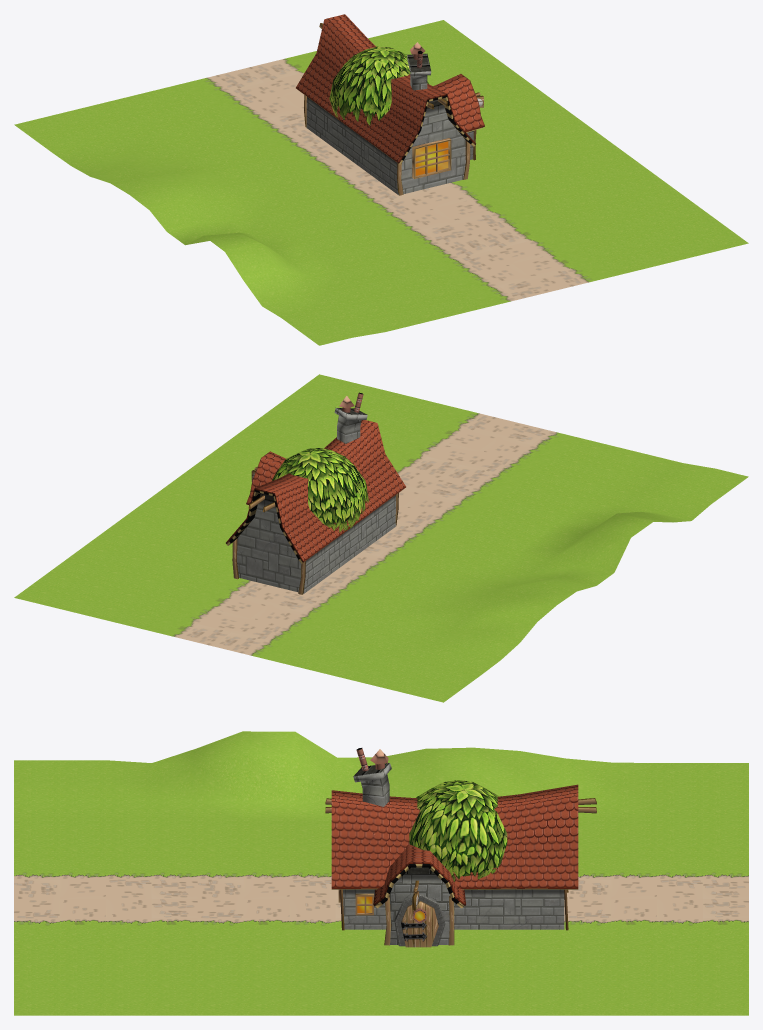
Rendered from houseENV01_parts.fbx.
The picture shows the model from 3 angles, top to bottom: view 1: azimuth 30°, elevation 25°; view 2: azimuth 150°, elevation 25°; view 3: azimuth 270°, elevation 25°; orthographic projection. The views are drawn at different scales.
Visible parts, largest first — view 1: Env_ground_mesh, Env_house1_mesh, Env_tree2_mesh; view 2: Env_ground_mesh, Env_house1_mesh, Env_tree2_mesh; view 3: Env_ground_mesh, Env_house1_mesh, Env_tree2_mesh.
Part boxes in pixels (bbox=[...]): Env_ground_mesh: bbox=[14, 20, 748, 345]; Env_house1_mesh: bbox=[296, 14, 484, 195]; Env_tree2_mesh: bbox=[329, 46, 428, 125]; Env_ground_mesh: bbox=[14, 374, 748, 702]; Env_house1_mesh: bbox=[226, 392, 405, 594]; Env_tree2_mesh: bbox=[272, 448, 368, 532]; Env_ground_mesh: bbox=[14, 731, 748, 1015]; Env_house1_mesh: bbox=[325, 748, 596, 947]; Env_tree2_mesh: bbox=[409, 780, 507, 881].
Size of the model in its own units: 4457 by 1356 by 5485.
